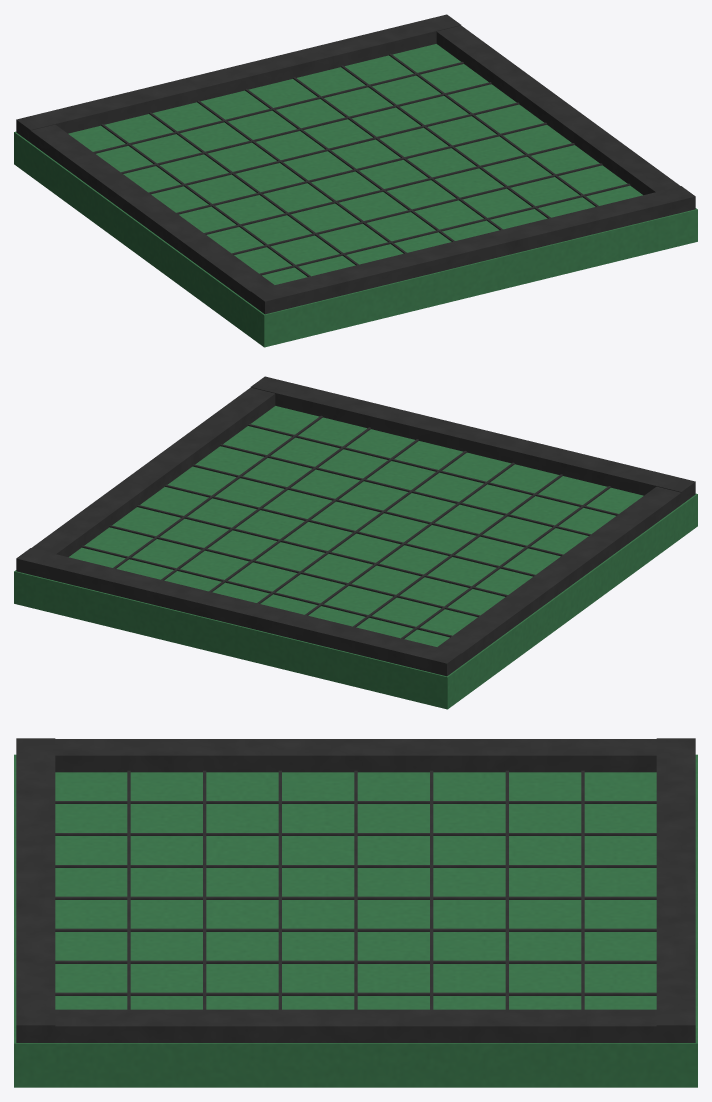
The model's file is board.glb.
3 views of the same model, one above another, from view 1: azimuth 30°, elevation 25°; view 2: azimuth 150°, elevation 25°; view 3: azimuth 270°, elevation 25° (orthographic). The views are drawn at different scales.
Parts seen in each view (by area): view 1: board-convcol; view 2: board-convcol; view 3: board-convcol.
Boxes of the visible parts, x1=… form: board-convcol: x1=14, y1=14, x2=697, y2=347; board-convcol: x1=14, y1=376, x2=697, y2=709; board-convcol: x1=14, y1=738, x2=697, y2=1087.
Bounding box in the file's own units: 0.4617 × 0.0458 × 0.4617.
1 material, 1 textured.
